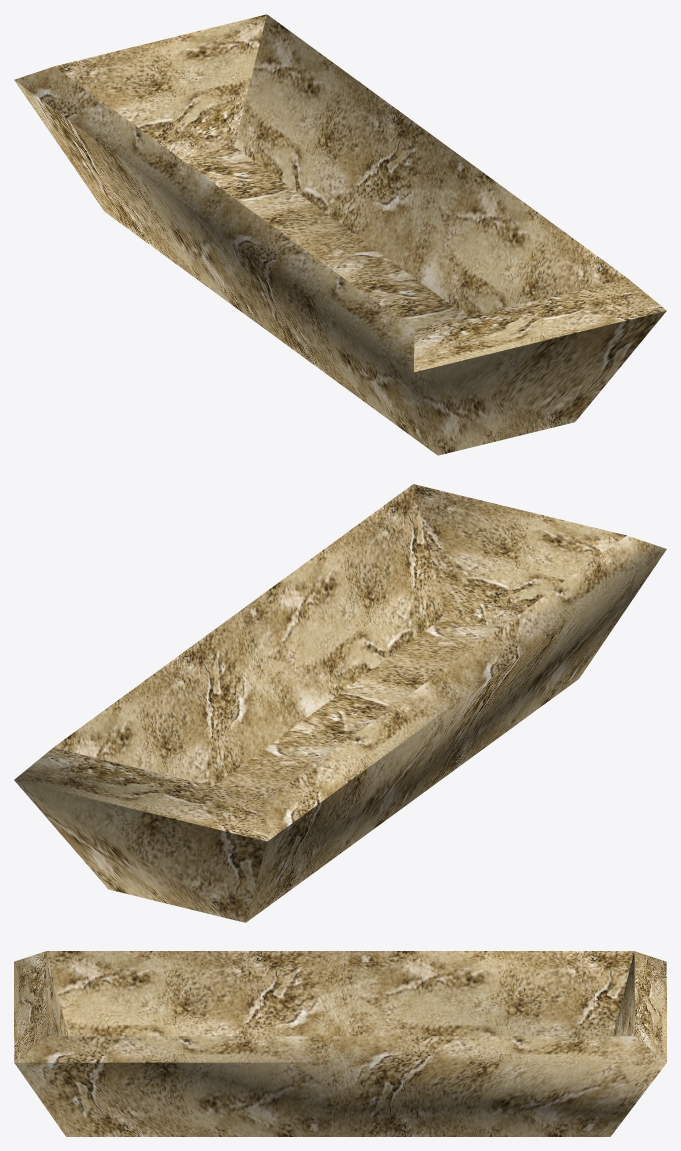
Rendered from pir_m_prp_cem_tomb_2.fbx.
3 renders of one model, top to bottom at view 1: azimuth 30°, elevation 25°; view 2: azimuth 150°, elevation 25°; view 3: azimuth 270°, elevation 25°, orthographic. The views are drawn at different scales.
Visible parts, largest first — view 1: lod_high; view 2: lod_high; view 3: lod_high.
Boxes of the visible parts, box(x1,y1,x2,y2) form: lod_high: box(14, 14, 666, 455); lod_high: box(14, 484, 666, 922); lod_high: box(14, 951, 666, 1136).
Bounding box in the file's own units: 303 × 164 × 829.
Materials: 1 (1 with a texture image).
